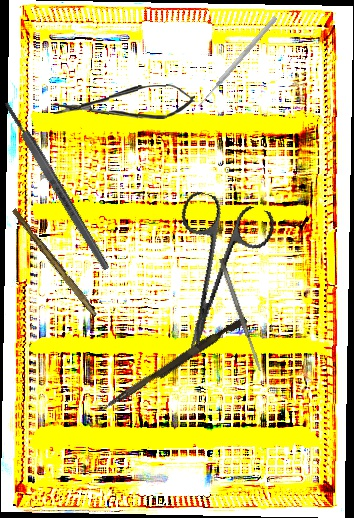Iris Scissors: (146, 188, 278, 361)
Micro Scissor: (51, 83, 196, 123)
Pusher: (99, 312, 248, 418), (196, 15, 279, 108)
Scalpel Handle: (1, 100, 112, 272), (9, 207, 101, 318)
Spatula Surgical: (218, 257, 263, 373)
